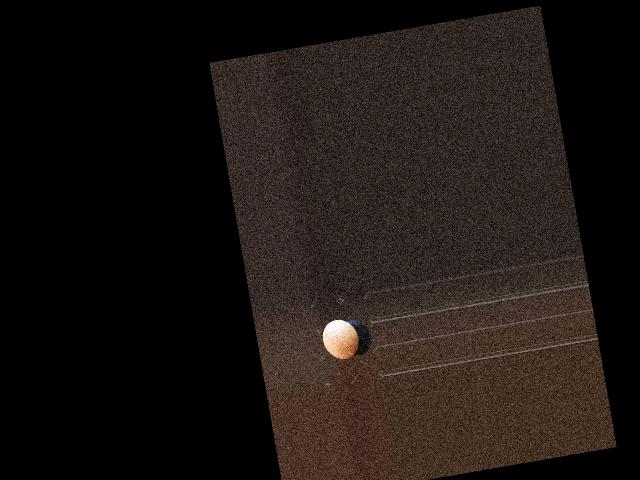egg: (320, 316, 362, 362)
